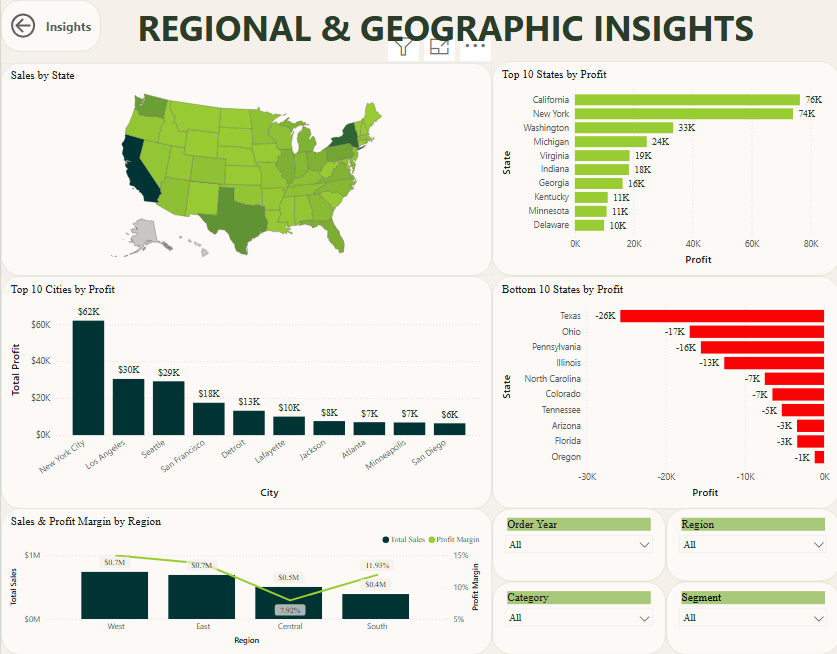

Layout of this report page (visuals, bound fields, positions):
{"tool":"powerbi","page":{"name":"Page 3","canvas":[1280,1000],"ordinal":2},"visuals":[{"type":"shapeMap","fields":{"Category":["Sheet1.state_province"],"Value":["Sum(Sheet1.sales)"]},"box":[0,95.8,749.9,325.4],"z":0},{"type":"clusteredBarChart","fields":{"Category":["Sheet1.state_province"],"Y":["Sum(Sheet1.profit)"]},"box":[749.9,94.2,530.2,327.1],"z":1000},{"type":"actionButton","box":[0,0,151.7,78.3],"z":2000},{"type":"lineClusteredColumnComboChart","fields":{"Category":["Sheet1.region"],"Y2":["Sheet1.Profit Margin"],"Y":["Sheet1.Total Sales"]},"box":[0,776.7,750,223.3],"z":3000},{"type":"clusteredBarChart","fields":{"Category":["Sheet1.state_province"],"Y":["Sum(Sheet1.profit)"]},"box":[749.9,421.2,530.2,355.1],"z":4000},{"type":"clusteredColumnChart","fields":{"Category":["Sheet1.city"],"Y":["Sheet1.Total Profit"]},"box":[0,421.2,749.9,355.1],"z":5000},{"type":"slicer","fields":{"Values":["Sheet1.order_year"]},"box":[750,776.7,265,111.7],"z":6000},{"type":"slicer","fields":{"Values":["Sheet1.category"]},"box":[750,888.3,265,111.7],"z":7000},{"type":"slicer","fields":{"Values":["Sheet1.segment"]},"box":[1015,888.3,265,111.7],"z":8000},{"type":"slicer","fields":{"Values":["Sheet1.region"]},"box":[1015,776.7,265,111.7],"z":9000},{"type":"textbox","box":[78.3,0,1201.7,95],"z":10000}]}

Visuals, with their boxes in screenshot pixels (x1, y1, x2, y2), scaled from the page's 1280x1000 canvas onto the 837x654 screenshot:
shapeMap - Sheet1.state_province x Sum(Sheet1.sales): x1=0, y1=63, x2=490, y2=275
clusteredBarChart - Sheet1.state_province x Sum(Sheet1.profit): x1=490, y1=62, x2=836, y2=276
actionButton: x1=0, y1=0, x2=99, y2=51
lineClusteredColumnComboChart - Sheet1.region x Sheet1.Profit Margin: x1=0, y1=508, x2=490, y2=653
clusteredBarChart - Sheet1.state_province x Sum(Sheet1.profit): x1=490, y1=275, x2=836, y2=508
clusteredColumnChart - Sheet1.city x Sheet1.Total Profit: x1=0, y1=275, x2=490, y2=508
slicer - Sheet1.order_year: x1=490, y1=508, x2=664, y2=581
slicer - Sheet1.category: x1=490, y1=581, x2=664, y2=653
slicer - Sheet1.segment: x1=664, y1=581, x2=836, y2=653
slicer - Sheet1.region: x1=664, y1=508, x2=836, y2=581
textbox: x1=51, y1=0, x2=836, y2=62
